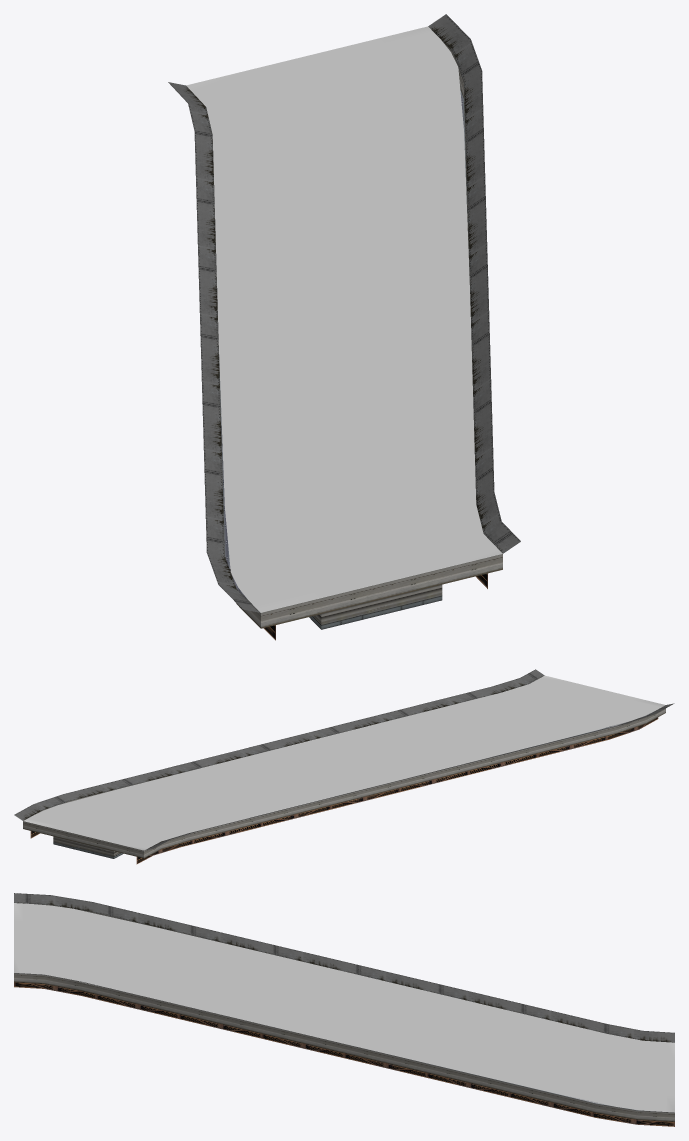
The model's file is Shear_R.fbx.
The picture shows the model from 3 angles, top to bottom: view 1: azimuth 30°, elevation 25°; view 2: azimuth 150°, elevation 25°; view 3: azimuth 270°, elevation 25°; orthographic projection. The views are drawn at different scales.
Visible parts, largest first — view 1: Empty_Mesh; view 2: Empty_Mesh; view 3: Empty_Mesh.
Part boxes in pixels (left/top/right/bottom): Empty_Mesh: left=168, top=14, right=520, bottom=640; Empty_Mesh: left=14, top=669, right=674, bottom=864; Empty_Mesh: left=14, top=893, right=674, bottom=1126.
Bounding box in the file's own units: 50.4 × 2.5 × 64.
